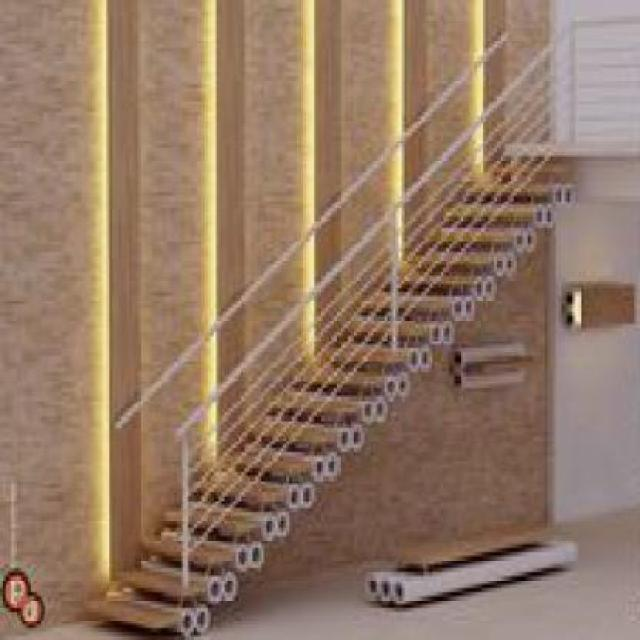stair: (71, 94, 572, 634)
